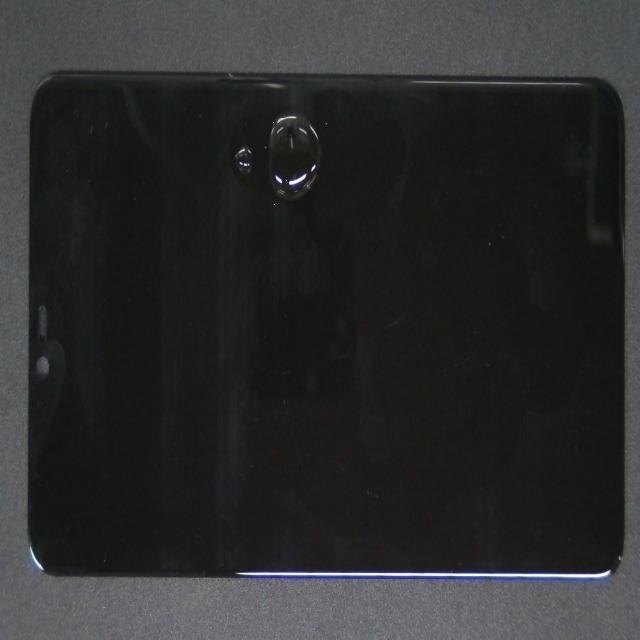oil: (123, 36, 399, 244), (131, 56, 363, 201)
